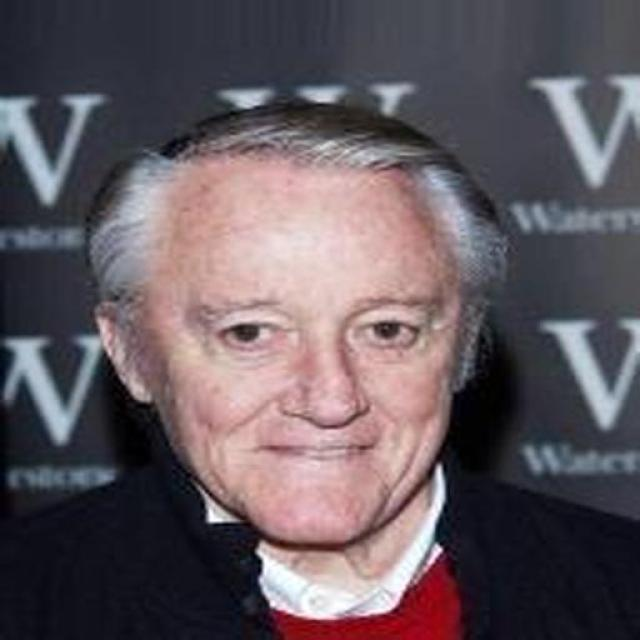bareface: (96, 120, 472, 520)
